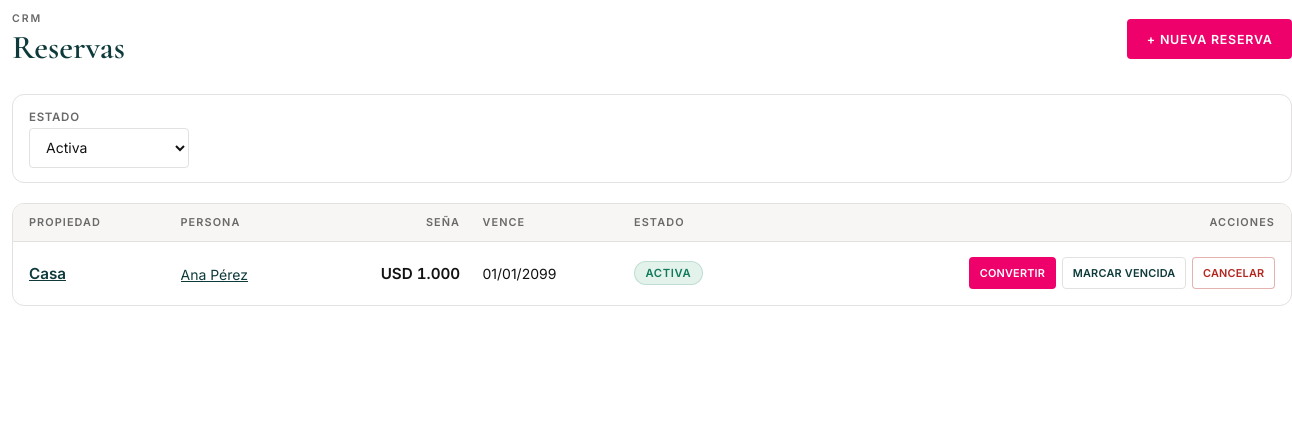
Test: muestra el detail del backend si una acción falla
Click the button "Cancelar" at (1234, 273), box [1192, 257, 1275, 289]
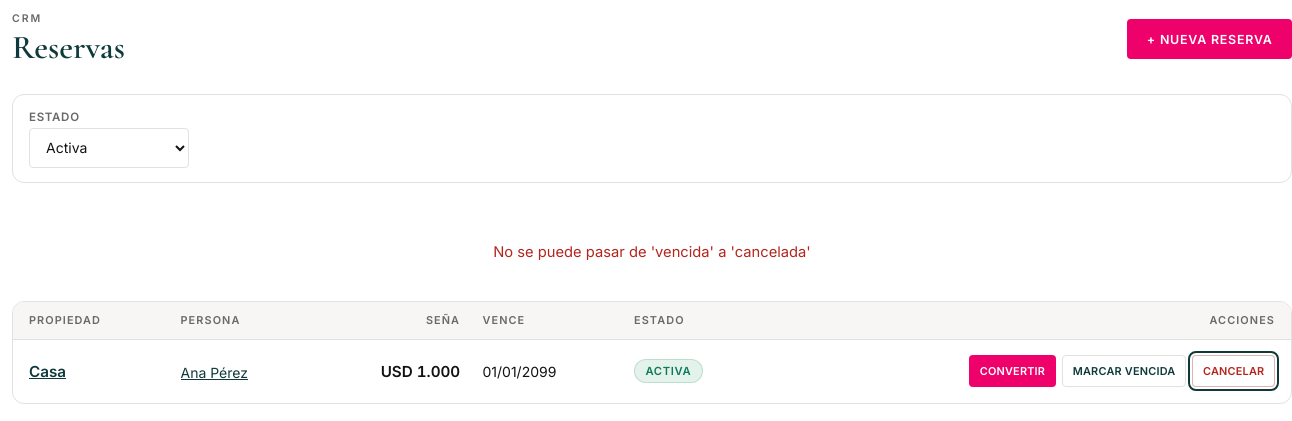
Now the text "No se puede pasar de 'vencida' a 'cancelada'" is shown, box [493, 243, 811, 261]
